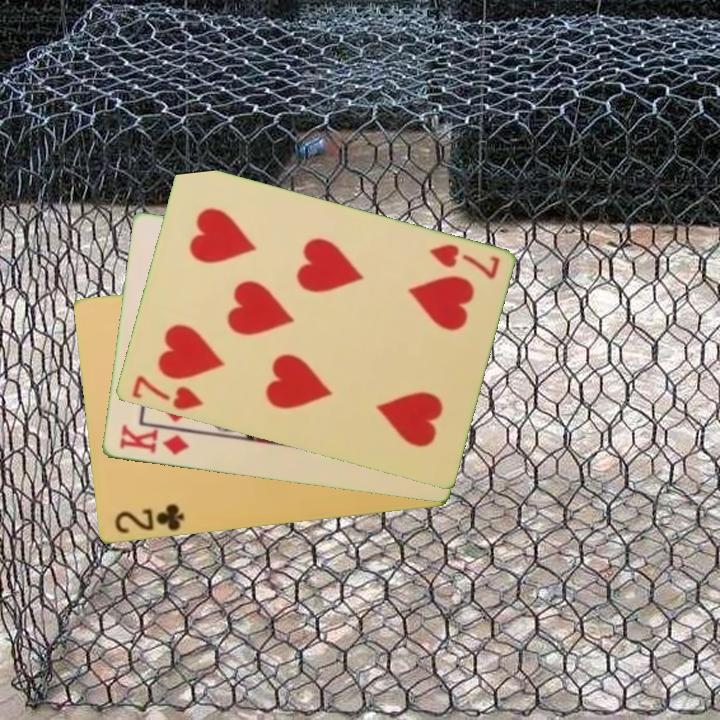2c: (111, 500, 187, 537)
7h: (425, 240, 502, 283), (128, 372, 205, 413)
Kd: (115, 421, 191, 458)
